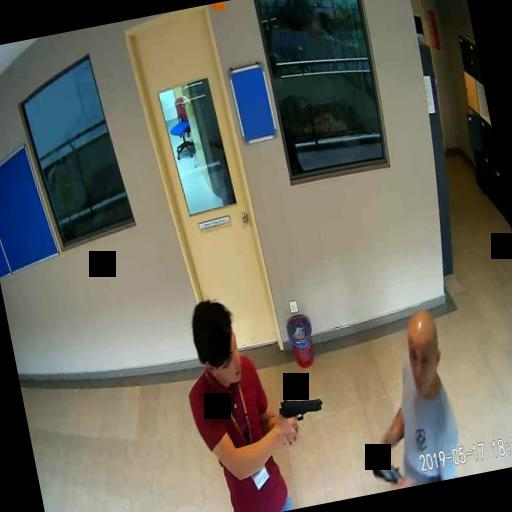Handgun: (276, 392, 327, 442)
